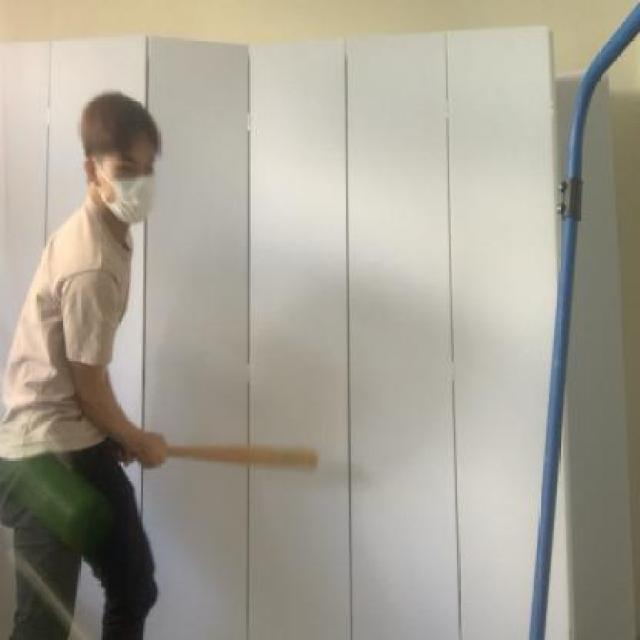baseball: (0, 429, 105, 551)
